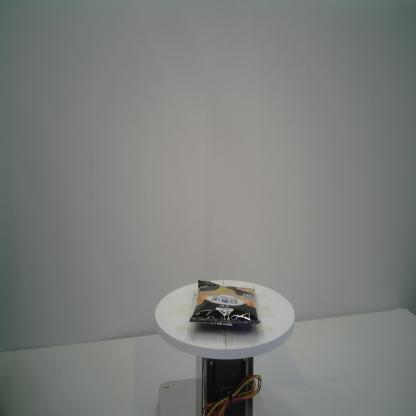Instant Drink: (189, 279, 261, 327)
